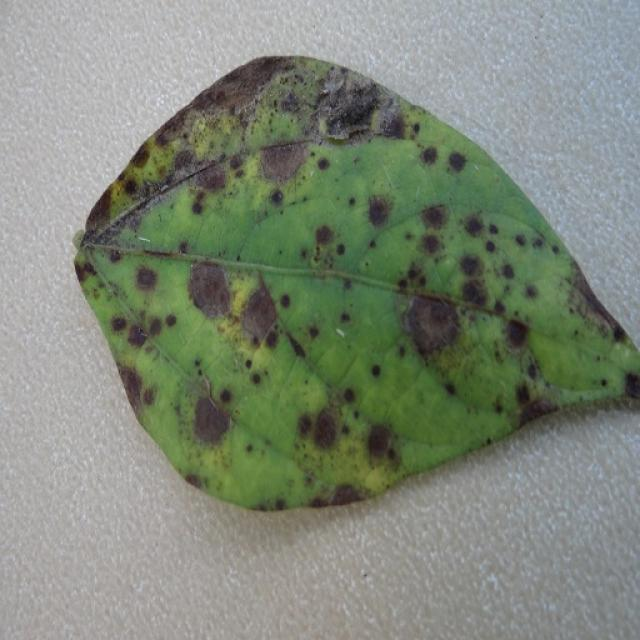Anthracnose: (248, 78, 320, 145), (175, 256, 235, 324), (403, 293, 460, 356), (238, 279, 281, 346), (84, 178, 132, 232), (191, 393, 231, 447), (259, 141, 309, 184), (116, 365, 144, 416), (194, 158, 232, 193), (516, 398, 557, 428), (311, 409, 341, 449), (359, 463, 396, 494), (366, 424, 395, 460), (318, 69, 347, 100), (459, 278, 488, 308), (366, 195, 391, 228), (419, 203, 448, 230), (379, 111, 406, 140), (133, 262, 159, 292), (329, 483, 364, 505), (504, 317, 528, 347), (284, 328, 307, 359), (171, 149, 196, 176), (126, 323, 149, 349), (459, 254, 482, 279), (279, 89, 302, 114), (296, 412, 315, 439), (463, 214, 485, 236), (420, 233, 442, 255), (314, 223, 335, 246), (324, 131, 356, 146), (446, 151, 467, 173), (131, 147, 151, 170), (138, 178, 161, 198), (205, 89, 229, 108), (623, 373, 640, 399), (420, 145, 439, 165), (515, 384, 531, 406), (110, 315, 128, 333), (81, 259, 98, 278), (147, 317, 163, 337), (612, 324, 627, 342), (218, 388, 233, 405), (269, 189, 284, 206), (312, 242, 323, 264), (190, 199, 205, 215), (524, 284, 539, 300), (123, 179, 138, 195), (229, 155, 244, 171), (501, 263, 515, 280), (184, 473, 199, 488), (342, 387, 356, 403), (526, 362, 538, 380), (443, 382, 457, 397), (279, 293, 292, 309), (165, 313, 178, 328), (514, 233, 527, 247), (484, 240, 497, 253), (273, 498, 286, 511), (370, 364, 382, 378), (308, 325, 320, 339), (250, 372, 262, 385), (488, 223, 500, 236), (339, 312, 351, 324), (178, 241, 189, 254), (335, 243, 345, 256), (411, 122, 421, 134), (245, 443, 254, 453), (368, 239, 377, 248), (348, 196, 356, 206), (300, 248, 308, 258), (600, 377, 608, 386), (194, 359, 202, 368), (245, 359, 252, 369), (573, 329, 580, 337), (235, 255, 242, 262), (364, 261, 370, 268), (278, 249, 283, 255)
Blackgram: (76, 58, 639, 510)
